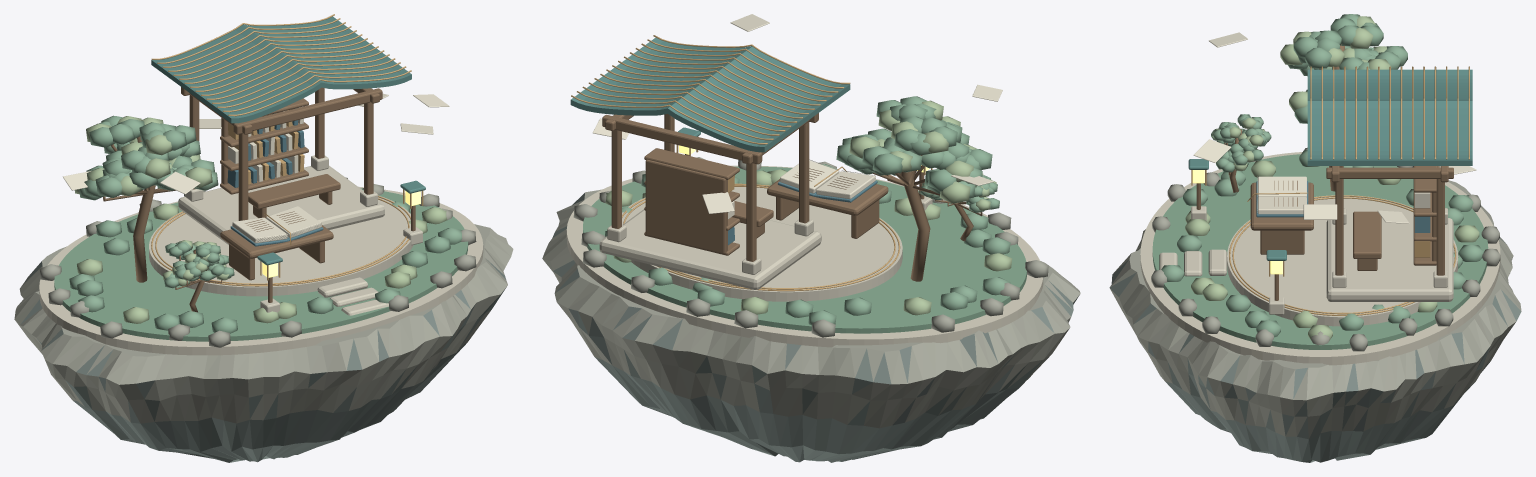
Rendered from book-island.glb.
3 views of the same model, side by side, from view 1: azimuth 30°, elevation 25°; view 2: azimuth 150°, elevation 25°; view 3: azimuth 270°, elevation 25° (orthographic). The views are drawn at different scales.
Visible parts, largest first — view 1: Garden_01 Limestone, Garden_03 Warm terrace, Garden_04 Garden moss, Garden_08 Patinated roof, Garden_07 Walnut wood, Garden_05 Sage foliage, Garden_11 Brass, Garden_06 Sunlit leaves, Garden_01 Limestone.001, Garden_09 Book paper, Garden_10 Blue book cloth; view 2: Garden_01 Limestone, Garden_03 Warm terrace, Garden_07 Walnut wood, Garden_04 Garden moss, Garden_08 Patinated roof, Garden_05 Sage foliage, Garden_11 Brass, Garden_06 Sunlit leaves, Garden_01 Limestone.001, Garden_09 Book paper, FloatingPage_2; view 3: Garden_01 Limestone, Garden_03 Warm terrace, Garden_08 Patinated roof, Garden_04 Garden moss, Garden_05 Sage foliage, Garden_07 Walnut wood, Garden_06 Sunlit leaves, Garden_11 Brass, Garden_01 Limestone.001, Garden_09 Book paper, Garden_10 Blue book cloth, FloatingPage_0 (+1 smaller).
Part boxes in pixels (x1,y1,x2,y2): Garden_01 Limestone: (14, 224, 513, 462); Garden_03 Warm terrace: (39, 155, 483, 355); Garden_04 Garden moss: (54, 188, 468, 341); Garden_08 Patinated roof: (151, 16, 425, 265); Garden_07 Walnut wood: (103, 87, 415, 312); Garden_05 Sage foliage: (69, 115, 462, 333); Garden_11 Brass: (151, 14, 423, 286); Garden_06 Sunlit leaves: (74, 116, 447, 323); Garden_01 Limestone.001: (39, 177, 476, 347); Garden_09 Book paper: (228, 107, 321, 243); Garden_10 Blue book cloth: (227, 107, 323, 246); Garden_01 Limestone: (542, 189, 1080, 462); Garden_03 Warm terrace: (566, 159, 1043, 347); Garden_07 Walnut wood: (602, 113, 982, 281); Garden_04 Garden moss: (583, 166, 1026, 333); Garden_08 Patinated roof: (570, 37, 850, 152); Garden_05 Sage foliage: (605, 96, 1010, 325); Garden_11 Brass: (571, 35, 932, 291); Garden_06 Sunlit leaves: (605, 100, 1012, 315); Garden_01 Limestone.001: (573, 157, 1048, 337); Garden_09 Book paper: (728, 160, 875, 219); FloatingPage_2: (702, 192, 734, 213); Garden_01 Limestone: (1109, 180, 1521, 462); Garden_03 Warm terrace: (1140, 152, 1500, 365); Garden_08 Patinated roof: (1188, 69, 1472, 260); Garden_04 Garden moss: (1152, 154, 1488, 349); Garden_05 Sage foliage: (1161, 14, 1483, 337); Garden_07 Walnut wood: (1196, 44, 1453, 300); Garden_06 Sunlit leaves: (1185, 16, 1479, 340); Garden_11 Brass: (1191, 66, 1469, 315); Garden_01 Limestone.001: (1151, 147, 1500, 351); Garden_09 Book paper: (1258, 176, 1430, 214); Garden_10 Blue book cloth: (1256, 181, 1430, 232); FloatingPage_0: (1303, 204, 1337, 219).
Size of the model in its own units: 8.79 by 6.31 by 6.51.
